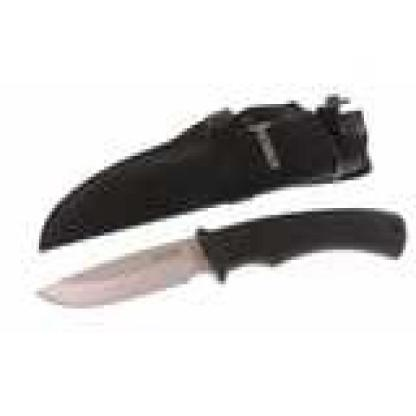Knife: (35, 86, 409, 314)
